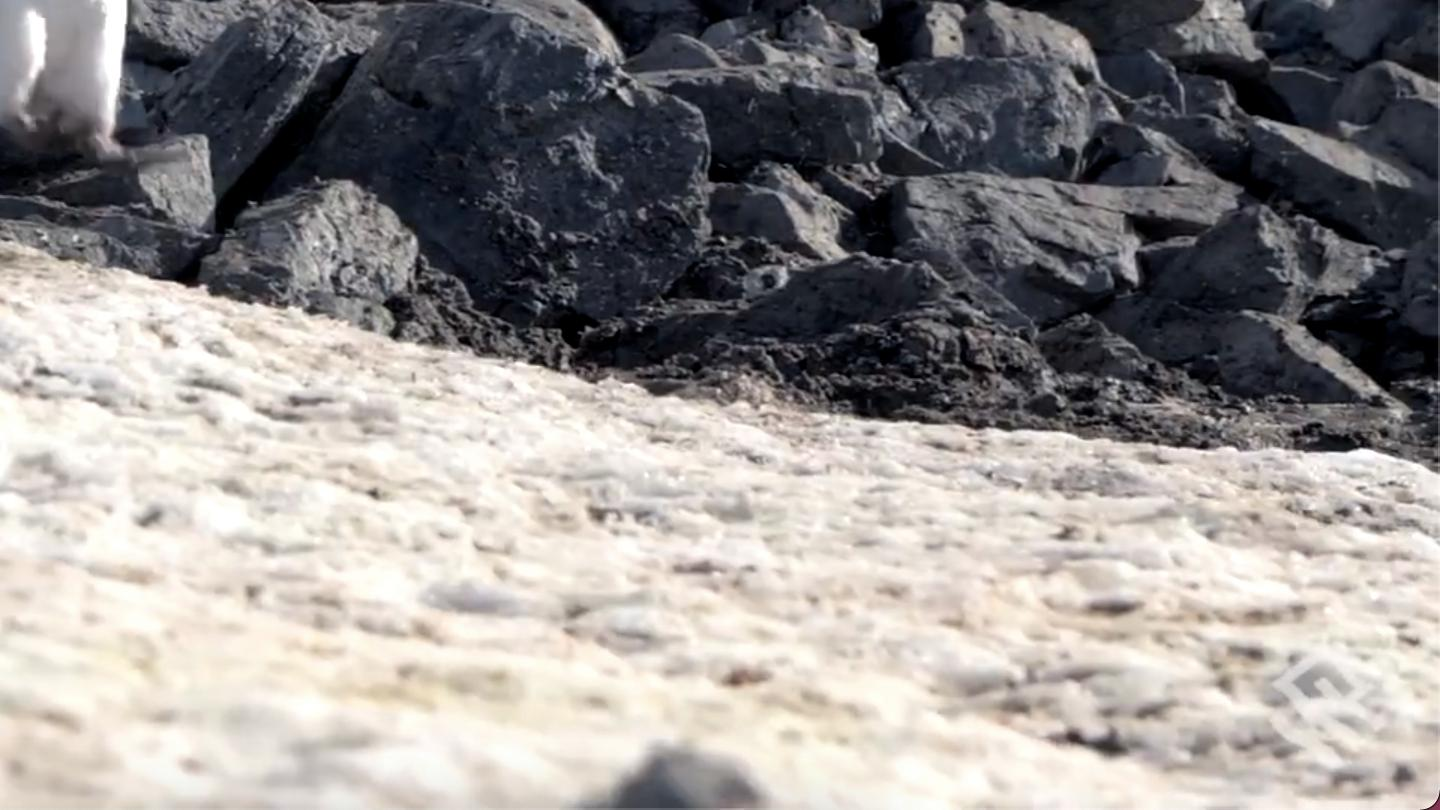Chinstrap Penguin: (0, 0, 227, 173)
